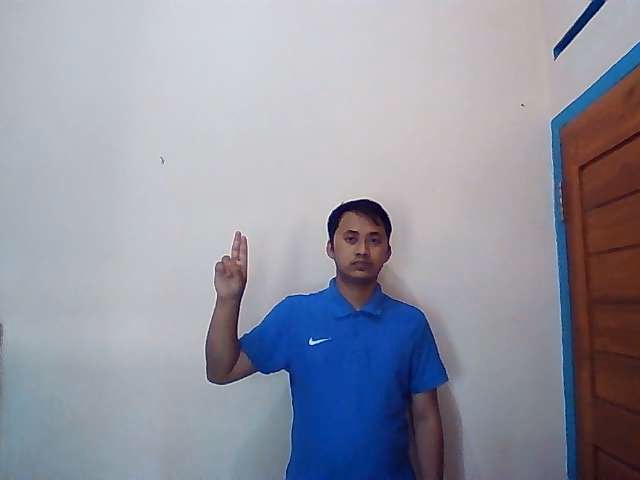U: (214, 231, 248, 295)
